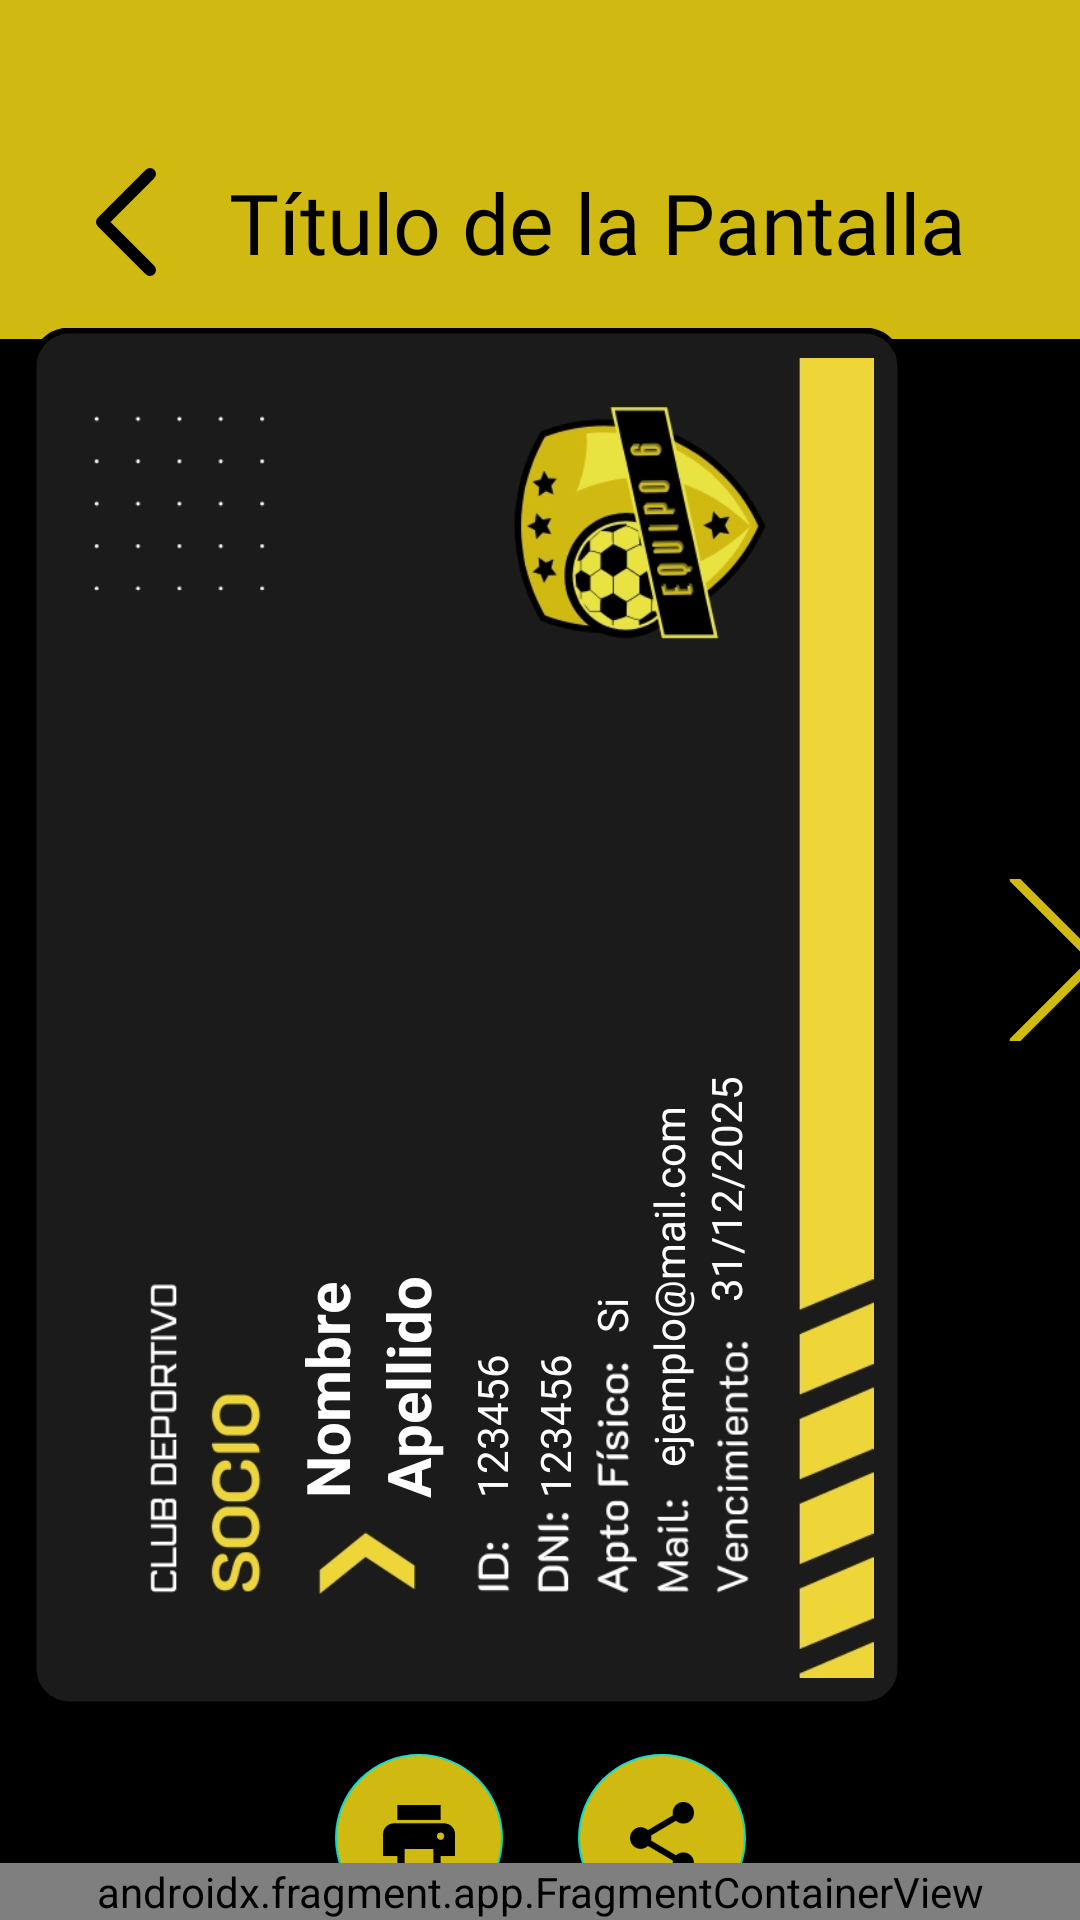

Screen size 1080*1920. Icon name, then its center in pixels as (x=x, y=y):
atras: (x=126, y=222)
